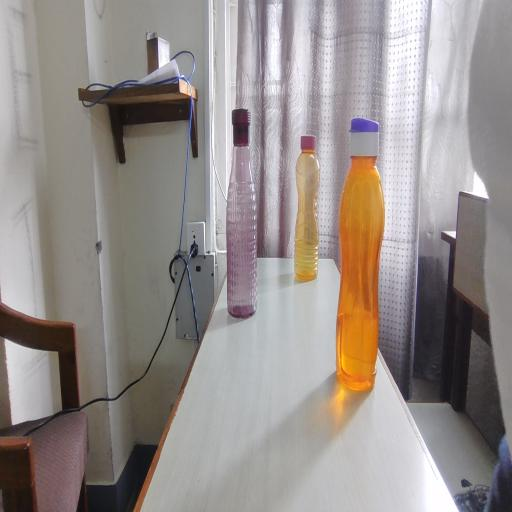Bottle: (342, 115, 391, 404), (223, 96, 270, 330), (299, 121, 327, 305)
